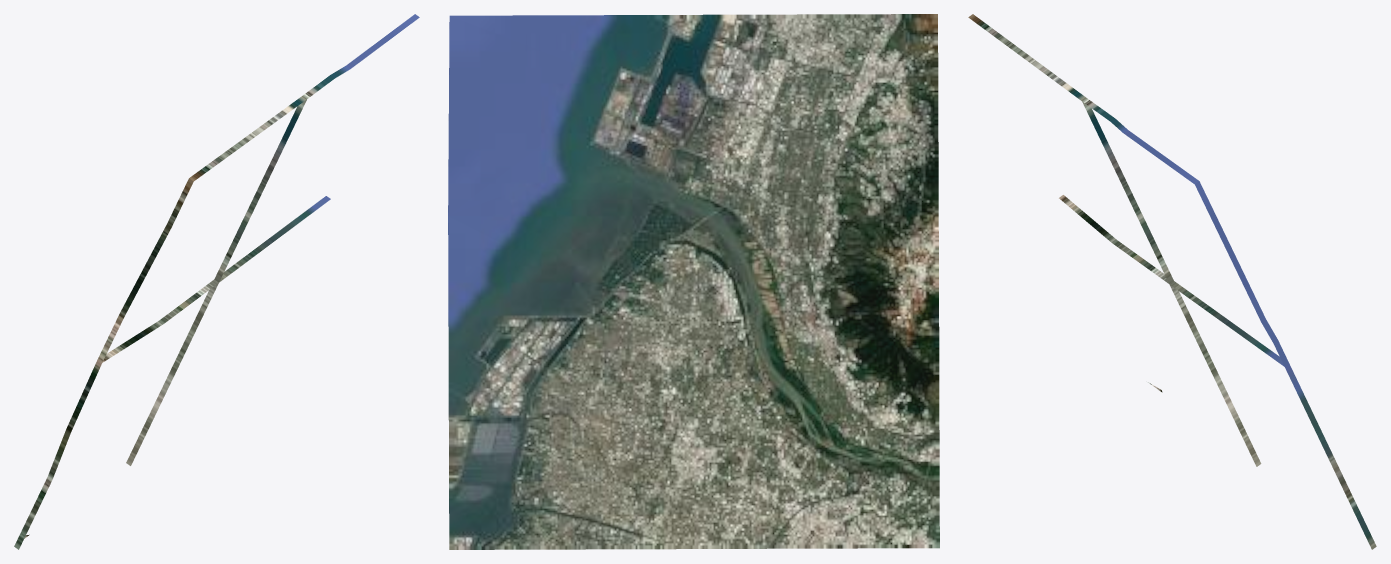
3 renders of one model, left to right at view 1: azimuth 30°, elevation 25°; view 2: azimuth 150°, elevation 25°; view 3: azimuth 270°, elevation 25°, orthographic. The views are drawn at different scales.
Size of the model in its own units: 19664 by 18014 by 16176.
Materials: 1 (1 with a texture image).
